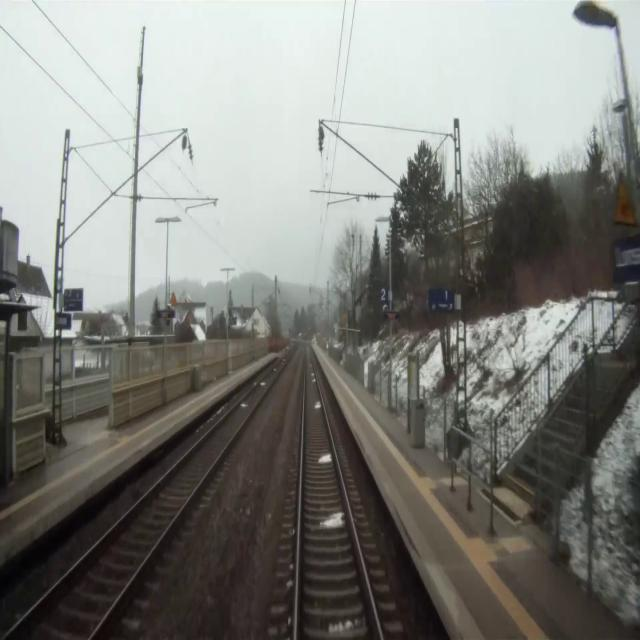rail-track: (7, 359, 285, 639), (299, 345, 379, 639)
